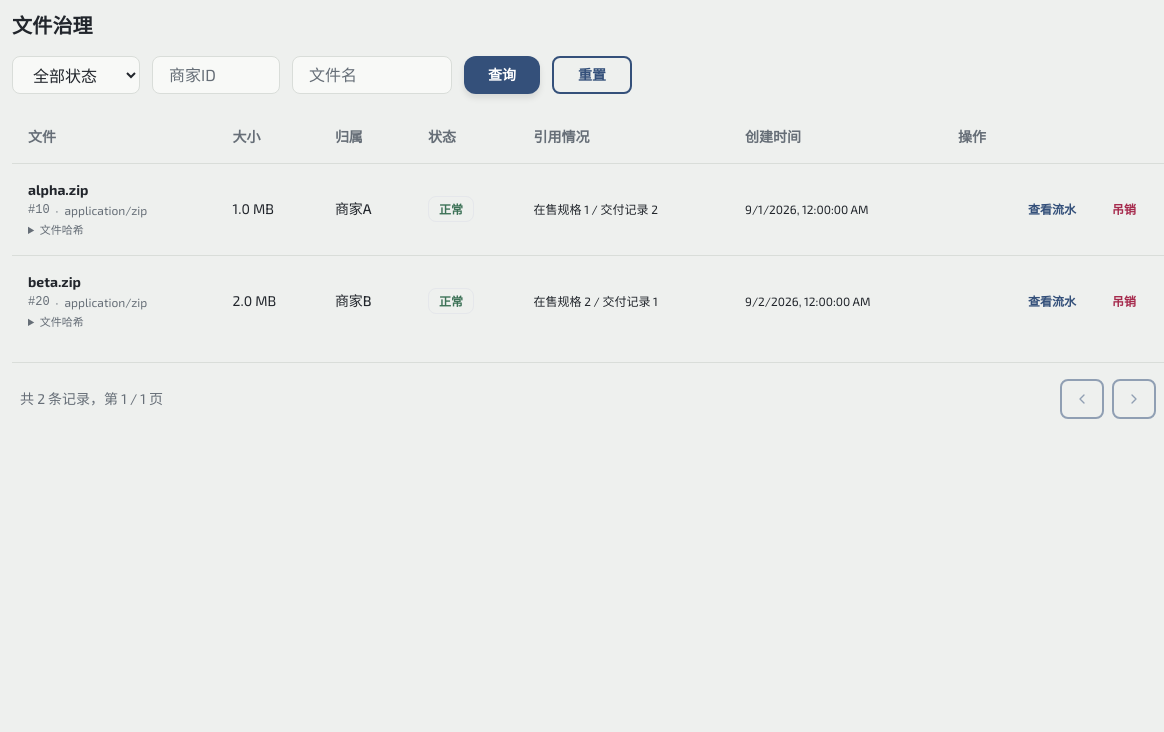
Scenario: AdminFileGovernance race condition & consistency protection › prevents file grants from leaking across files when older request resolves late
The width and height of the screenshot is (1164, 732).
Expected: the text "alpha.zip" is shown, top-left (28, 181), bottom-right (88, 198)
# Expand file 10 first (in-flight, unresolved)
Click the button "查看流水" in the row of "alpha.zip".
click(1052, 209)  # box top-left (1016, 189), bottom-right (1088, 229)
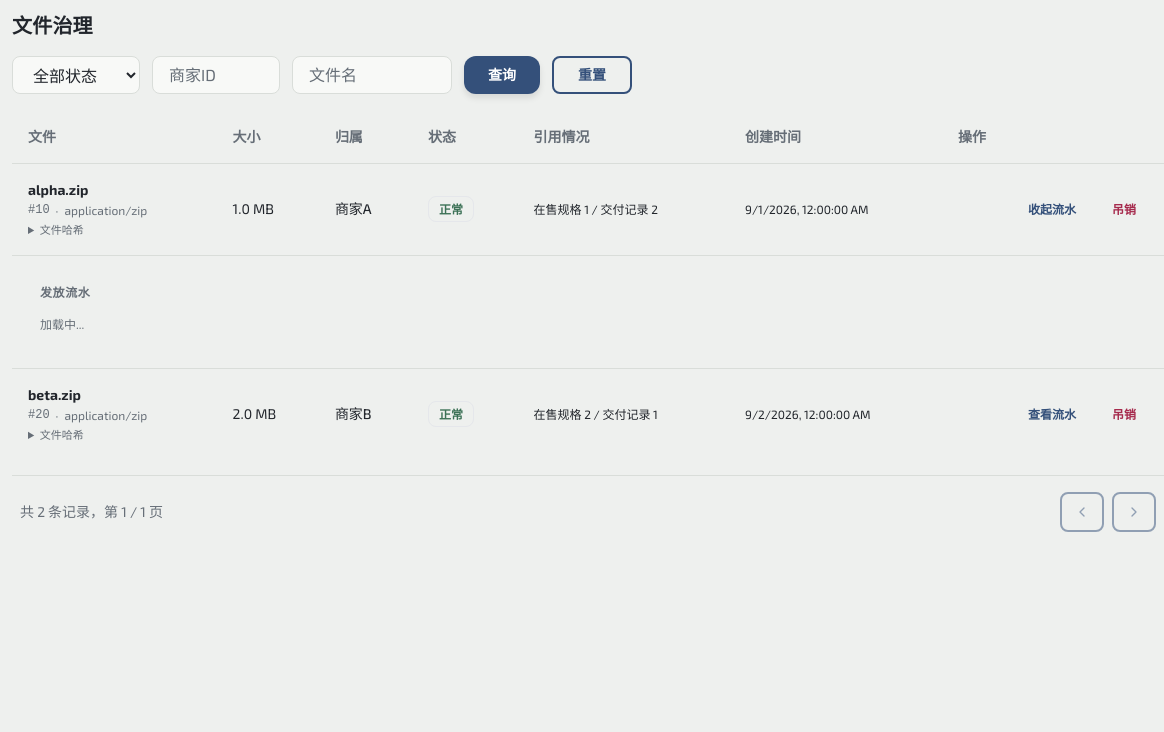
# Rapidly expand file 20 (resolves immediately)
Click the button "查看流水".
click(1052, 414)  # box top-left (1016, 394), bottom-right (1088, 434)
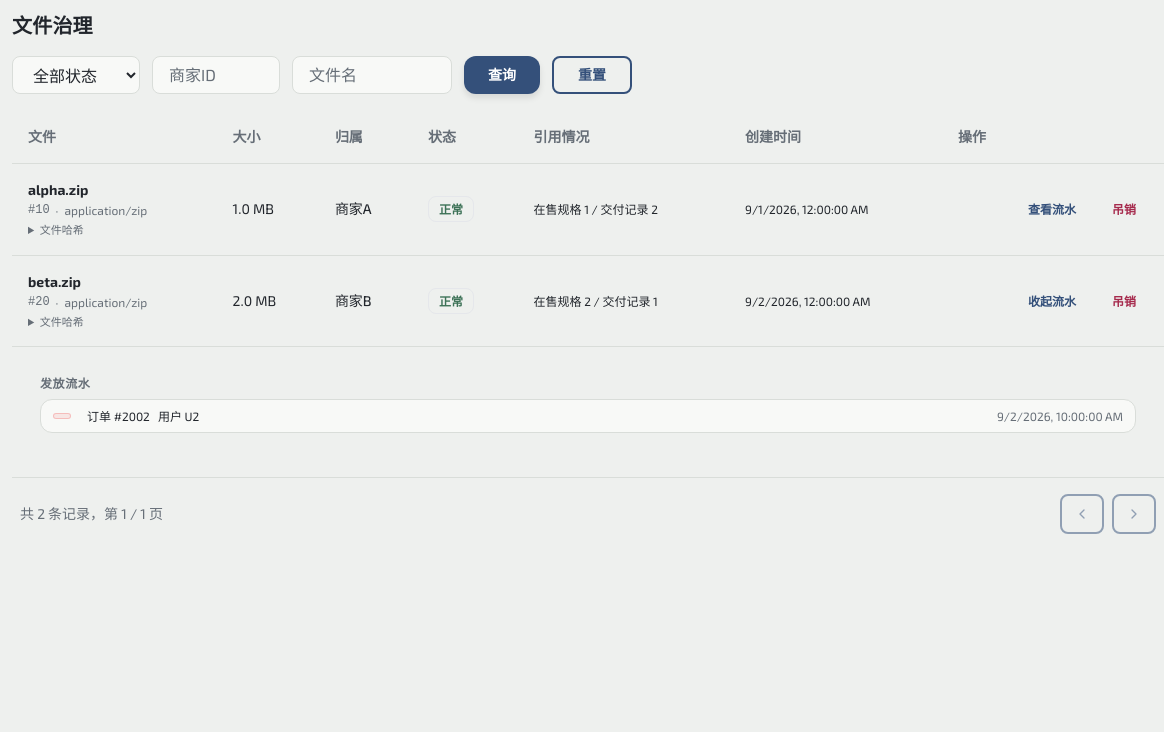
Result: the text "订单 #2002" is shown at top-left (87, 408), bottom-right (150, 424)
